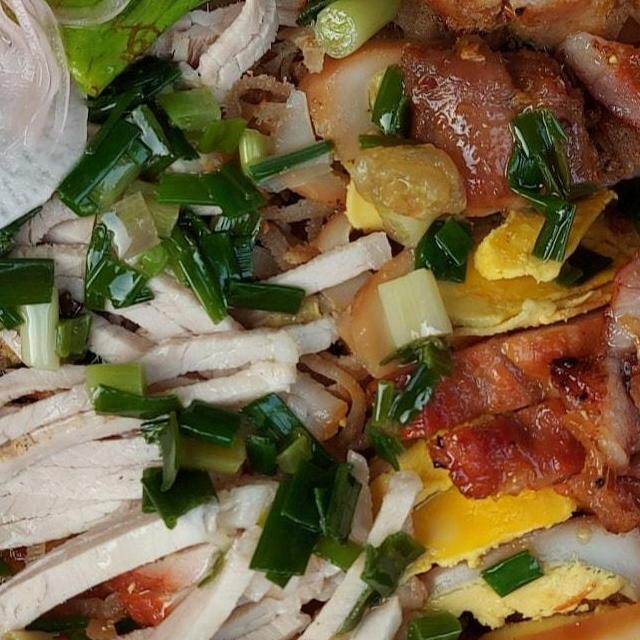dua chua: (0, 0, 102, 249)
suon: (0, 0, 402, 425), (373, 21, 640, 537), (0, 345, 442, 640)
trung: (263, 37, 640, 387), (342, 419, 640, 640)
